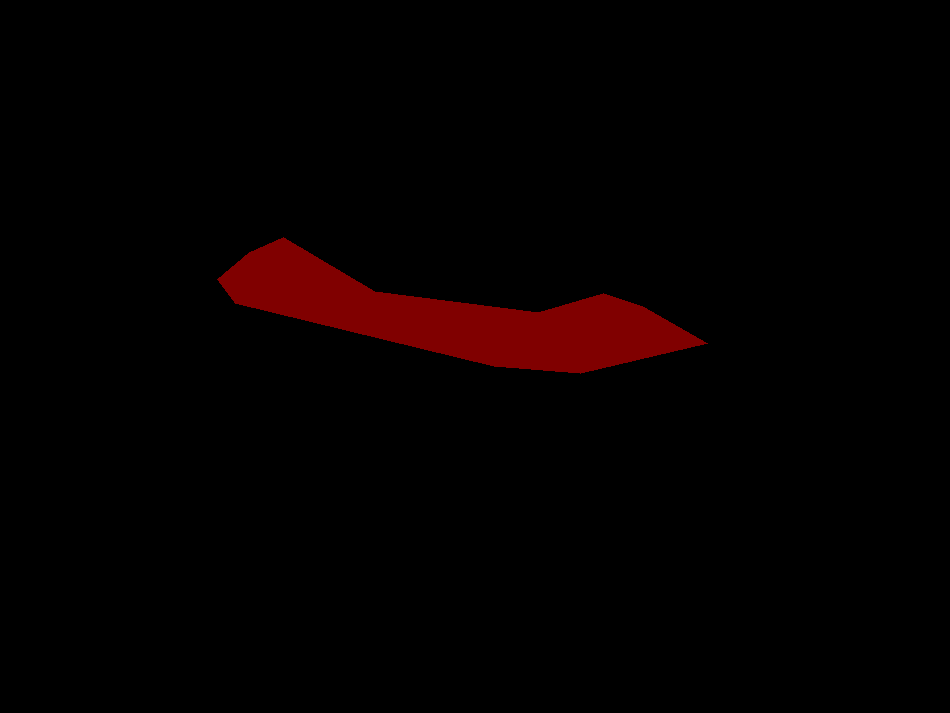fire: (217, 237, 707, 373)
